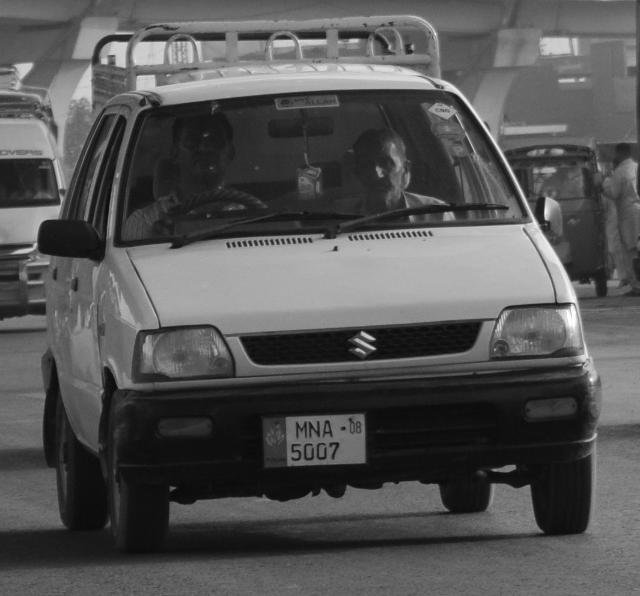Number: (290, 418, 344, 464)
